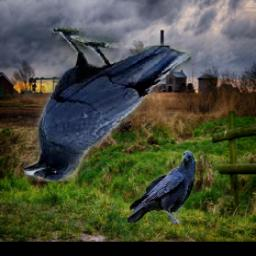Crow: (24, 29, 191, 182), (126, 151, 196, 224)
